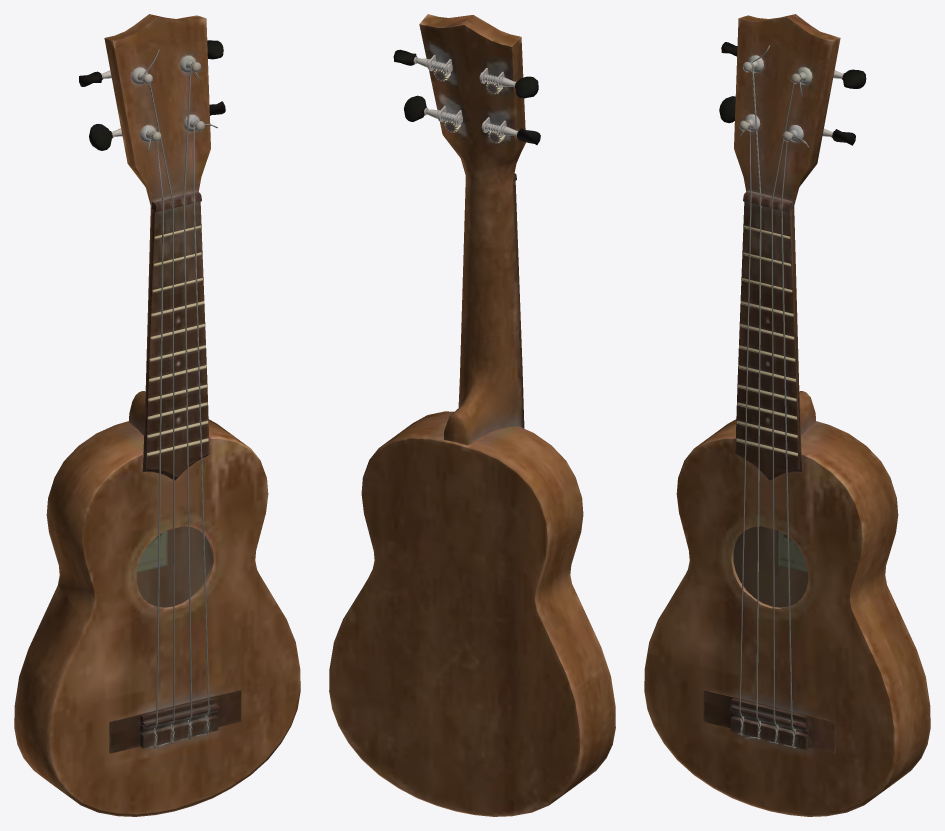
Rendered from ukulele.glb.
3 views of the same model, side by side, from view 1: azimuth 30°, elevation 25°; view 2: azimuth 150°, elevation 25°; view 3: azimuth 330°, elevation 25° (orthographic).
Visible parts, largest first — view 1: Ukulele_01; view 2: Ukulele_01; view 3: Ukulele_01.
Part boxes in pixels (x1=…): Ukulele_01: x1=14, y1=14, x2=300, y2=816; Ukulele_01: x1=329, y1=14, x2=615, y2=816; Ukulele_01: x1=644, y1=14, x2=930, y2=816.
Bounding box in the file's own units: 0.1779 × 0.527 × 0.0508.
1 material, 1 textured.
